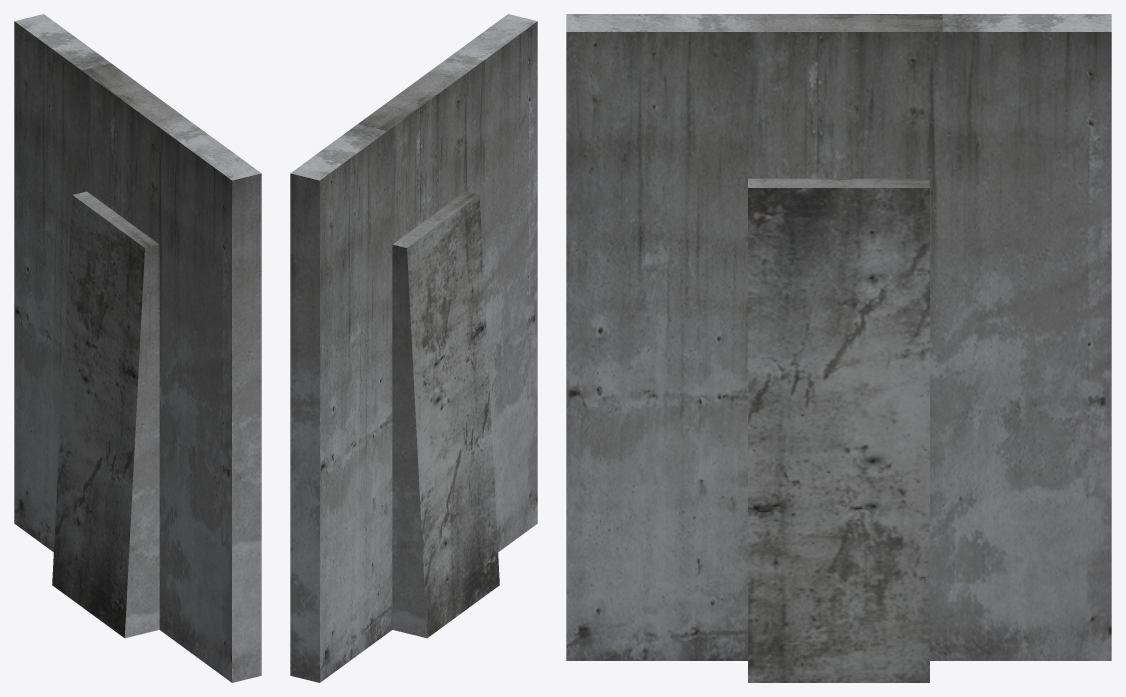
Rendered from island wall.FBX.
The picture shows the model from 3 angles, left to right: view 1: azimuth 30°, elevation 25°; view 2: azimuth 150°, elevation 25°; view 3: azimuth 270°, elevation 25°; orthographic projection. The views are drawn at different scales.
Visible parts, largest first — view 1: island wall; view 2: island wall; view 3: island wall.
Boxes of the visible parts, x1,y1,x2,y2 form: island wall: (14, 14, 261, 682); island wall: (290, 14, 537, 682); island wall: (566, 14, 1111, 682).
Size of the model in its own units: 168 by 805 by 633.
